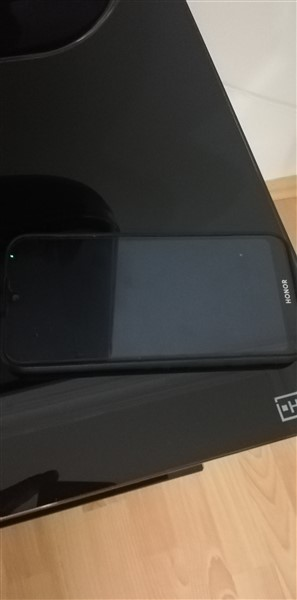telefon: (2, 216, 297, 374)
